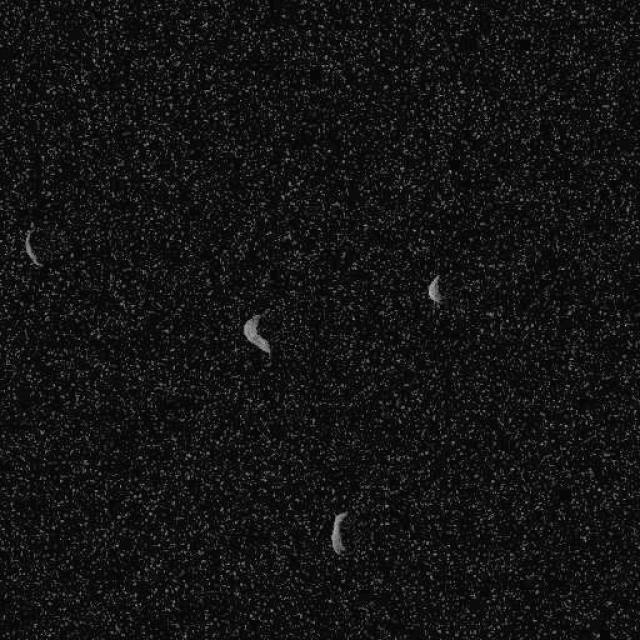D2: (241, 312, 271, 356), (22, 225, 44, 267), (329, 510, 349, 555), (426, 274, 444, 304)
